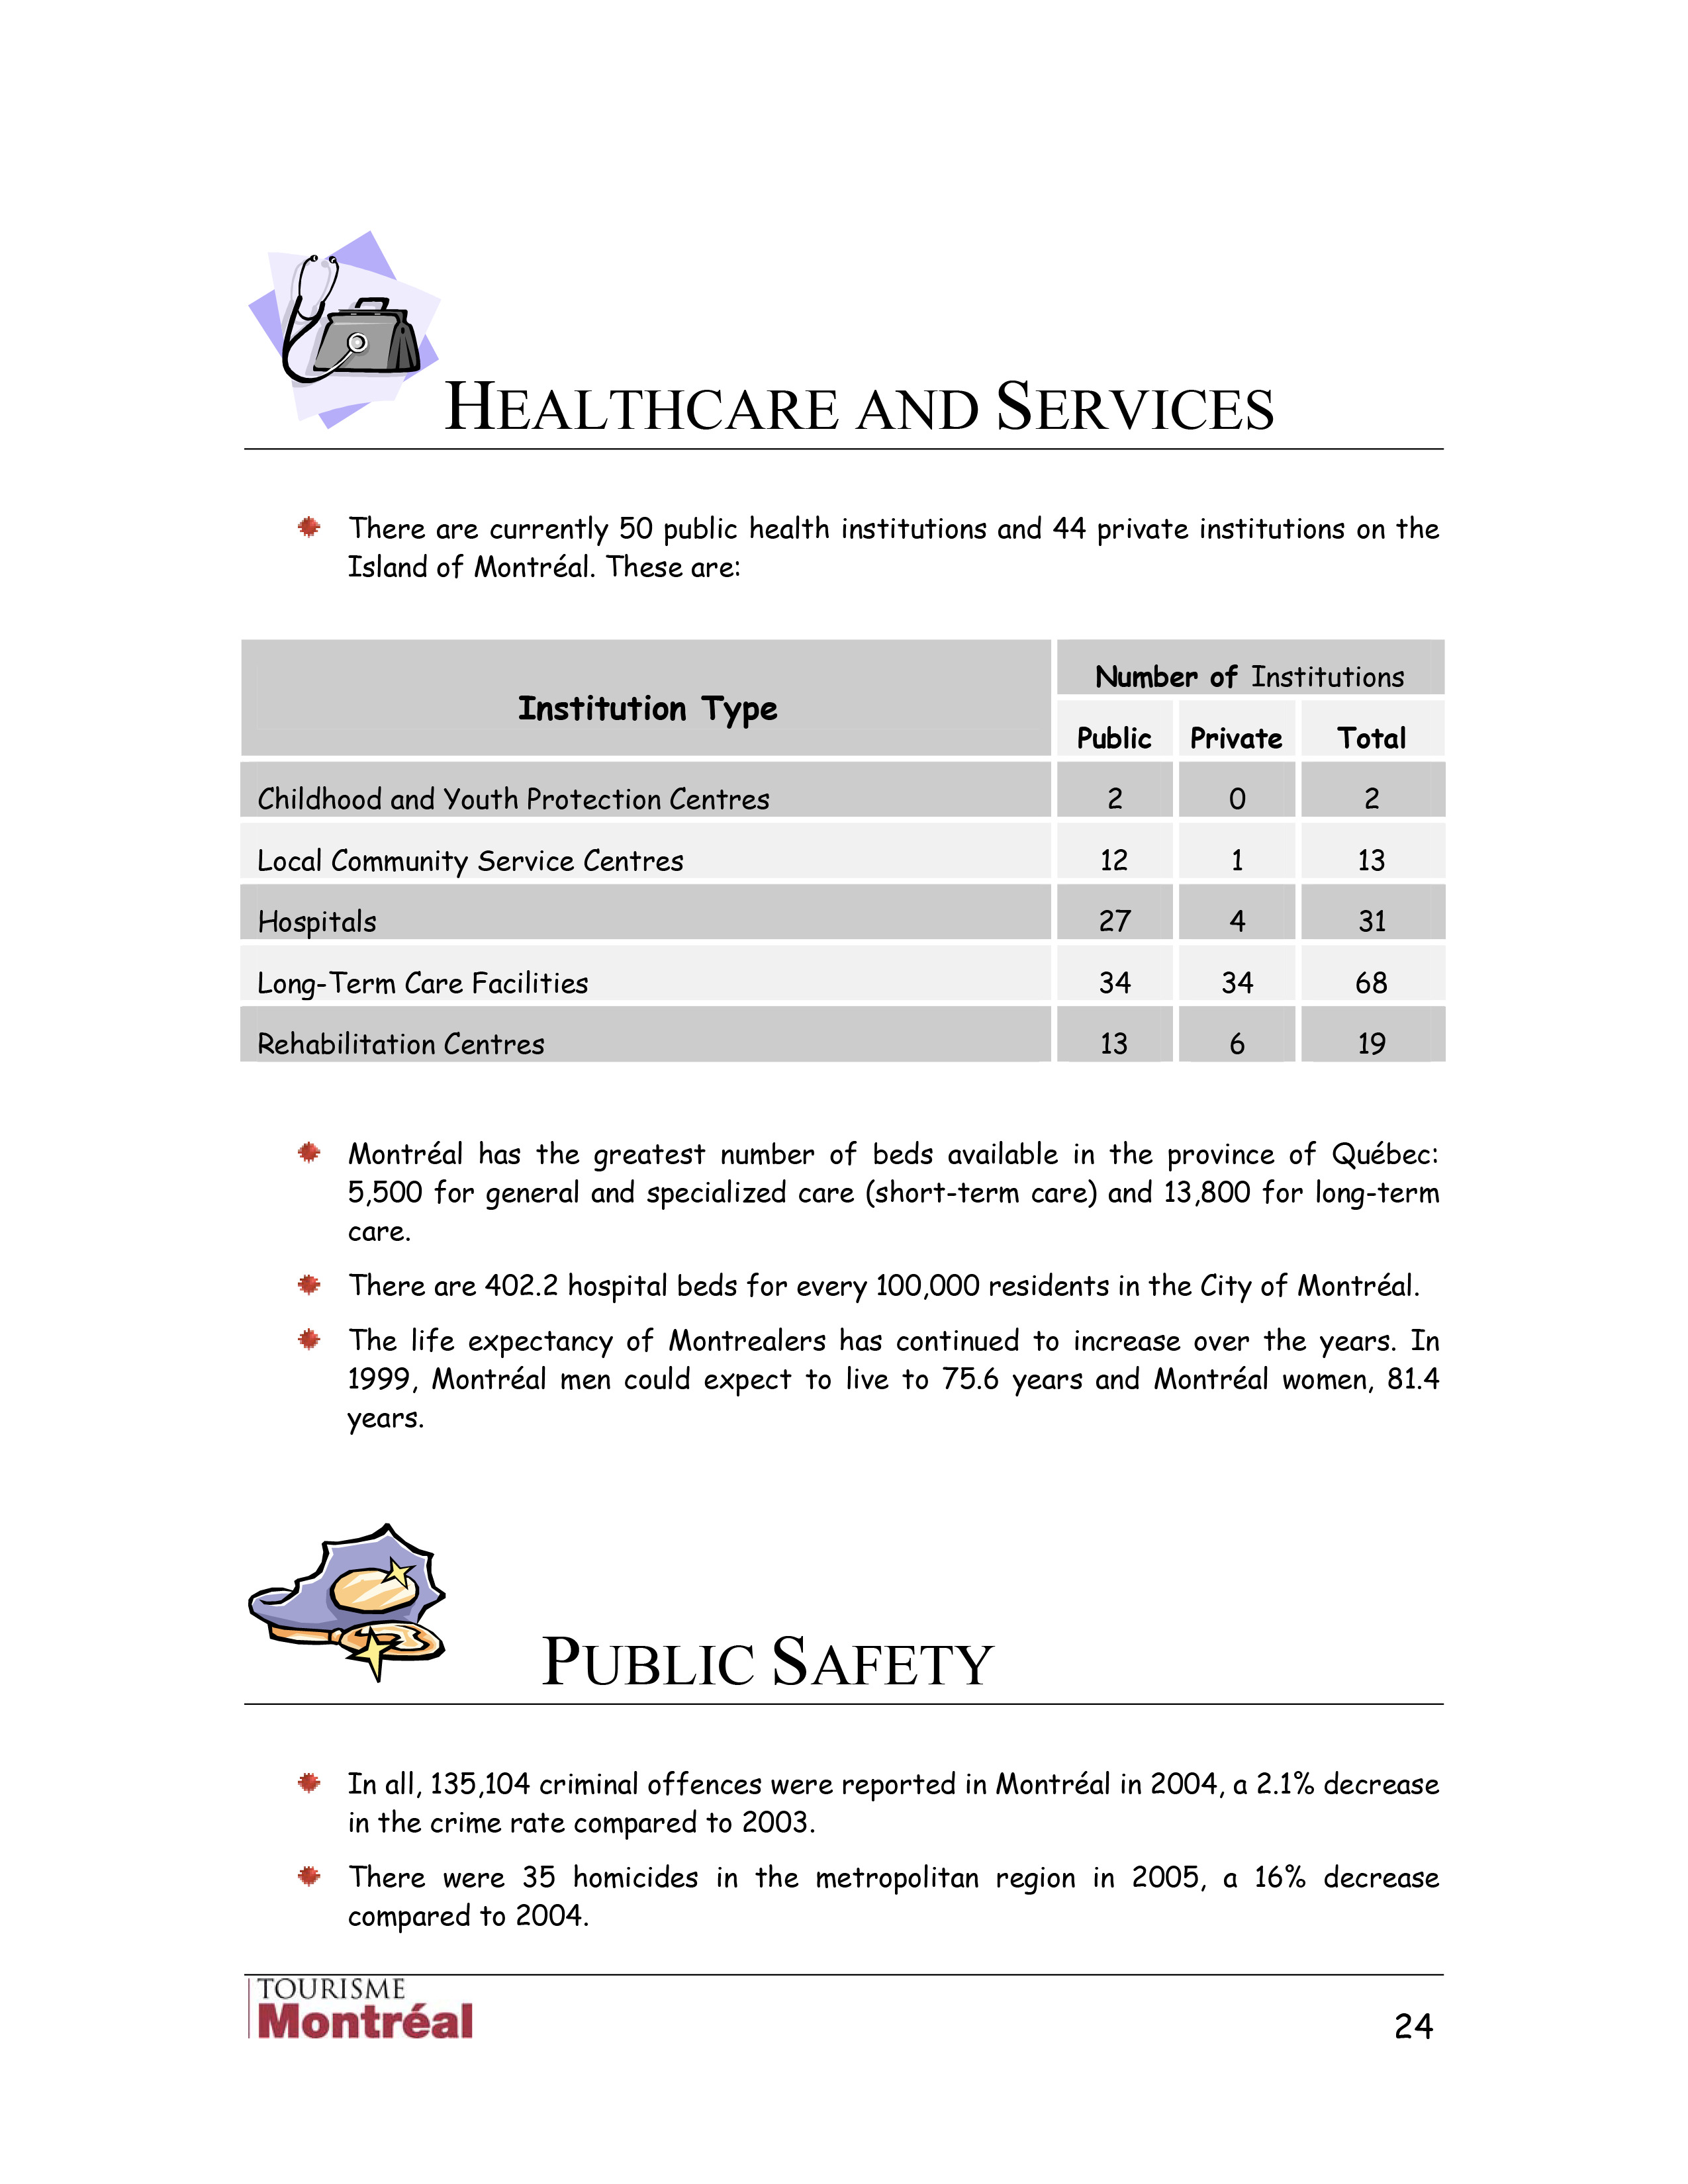figure: (234, 225, 447, 436), (254, 1526, 452, 1684)
list: (298, 1135, 1447, 1455), (298, 1755, 1450, 1950), (344, 1328, 1434, 1439), (346, 1135, 1440, 1244), (346, 1860, 1440, 1938), (340, 1764, 1438, 1838), (346, 1267, 1422, 1299)
section: (459, 372, 1273, 440), (546, 1629, 991, 1688), (257, 2001, 475, 2042)
table: (238, 645, 1447, 1071)
text: (346, 507, 1438, 587), (1395, 2005, 1431, 2042)
